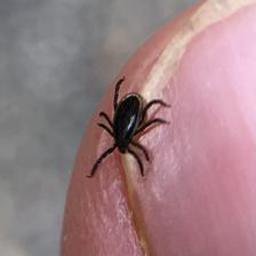Ixodes scapularis: (85, 76, 171, 178)
